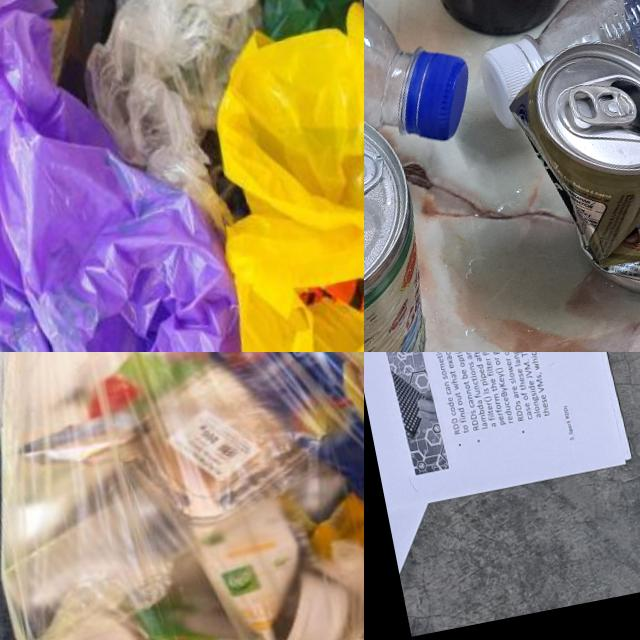aba de lata: (567, 73, 640, 133), (364, 145, 392, 230)
garrafa de vidro: (428, 0, 593, 47)
garrafa plástica: (517, 0, 640, 132)
lata: (499, 20, 640, 319), (364, 76, 455, 352)
papel: (364, 352, 640, 608)
sacola plástica: (0, 352, 364, 640), (0, 0, 267, 352), (180, 0, 364, 352), (48, 0, 326, 159)
tampa plástica: (396, 39, 482, 148), (477, 36, 546, 132)
